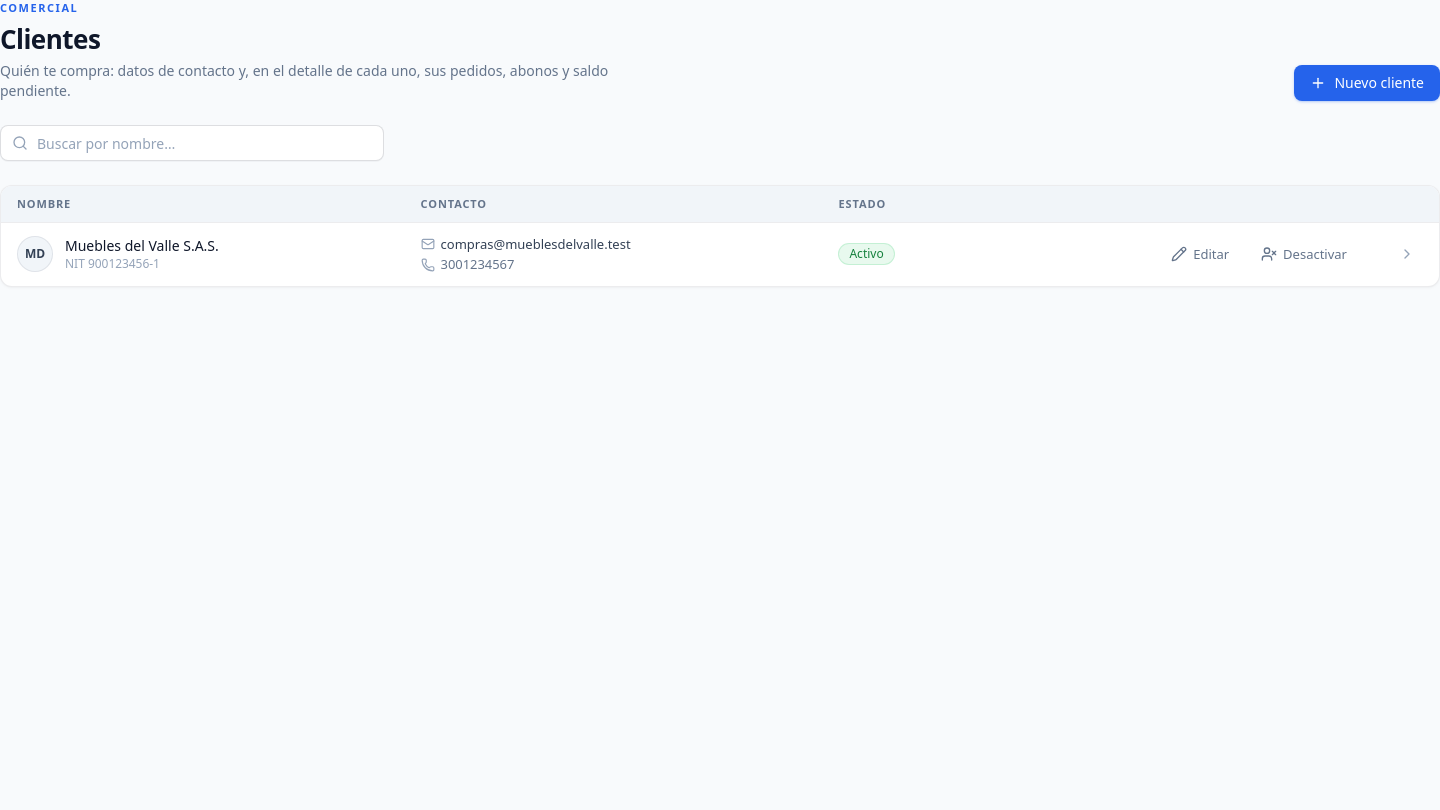
Test: CustomersPage › opens the edit modal pre-filled with the selected customer
The image size is (1440, 810).
Click the button "Editar": coordinates (1200, 254) [1159,238,1241,270]
(page scrolled)
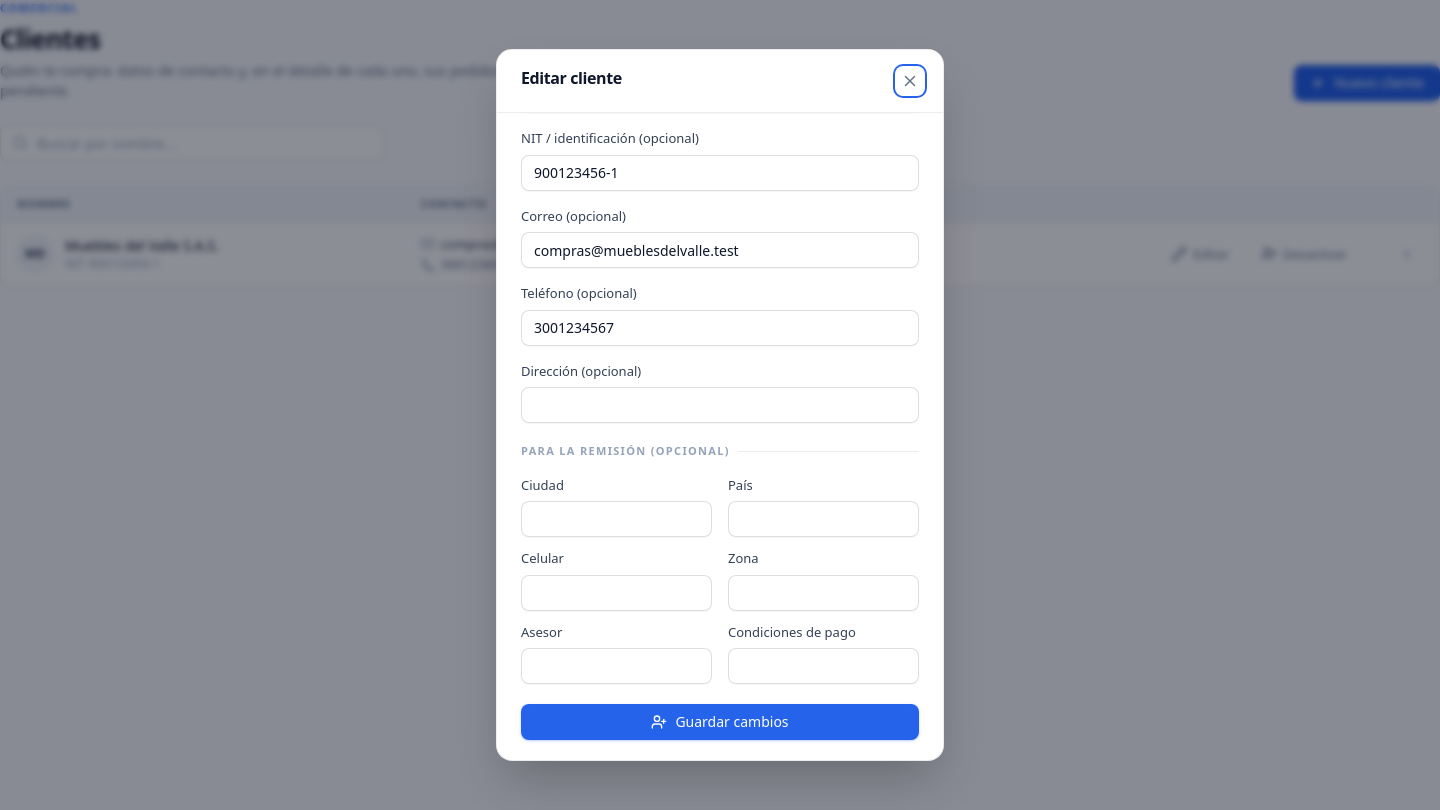
Check: the dialog "Editar cliente" is shown, box [496,49,944,761]
Check: the button "Guardar cambios" is shown, box [521,704,919,740]
